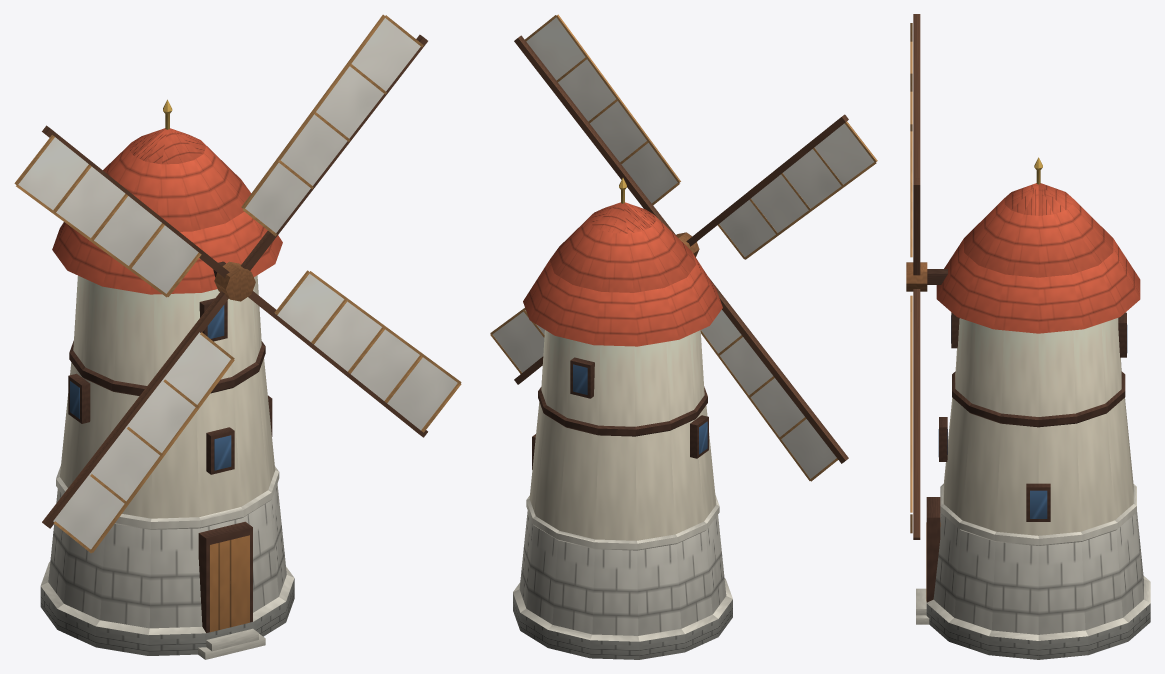
The model's file is ind_windmill_01.glb.
3 views of the same model, side by side, from view 1: azimuth 30°, elevation 25°; view 2: azimuth 150°, elevation 25°; view 3: azimuth 270°, elevation 25° (orthographic). The views are drawn at different scales.
Parts seen in each view (by area): view 1: ind_windmill_01; view 2: ind_windmill_01; view 3: ind_windmill_01.
Part boxes in pixels (box(x1,y1,x2,y2)): ind_windmill_01: box(14, 14, 461, 659); ind_windmill_01: box(490, 14, 877, 659); ind_windmill_01: box(906, 14, 1150, 659).
Size of the model in its own units: 13.34 by 17.27 by 7.02.
Materials: 1 (1 with a texture image).
